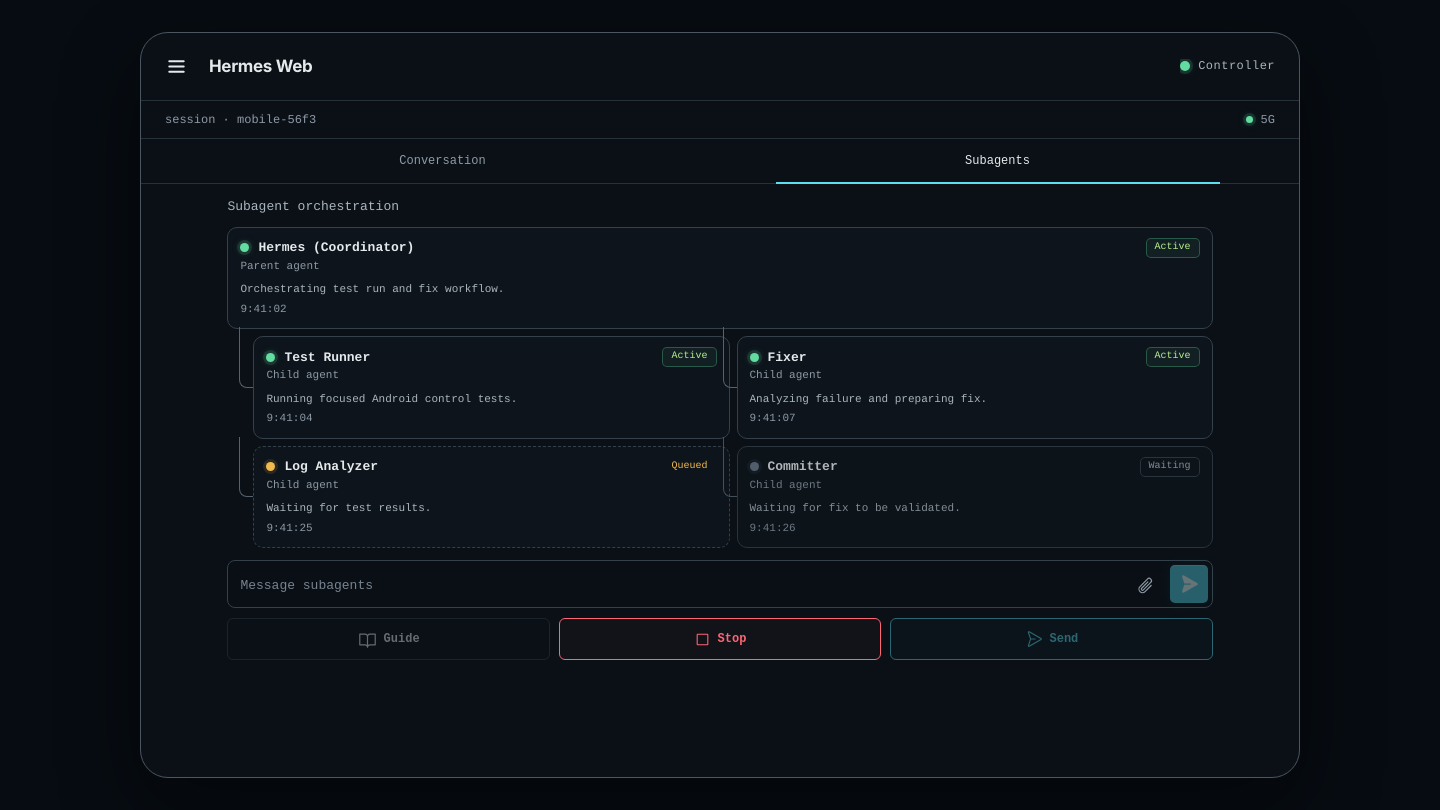
it: Hermes Web mobile-parity slice › keeps Subagents Send single-flight and disabled while pending
Type "Run once" into the field labelled "Message subagents" at (676, 584), box x1=228 y1=561 x2=1124 y2=607
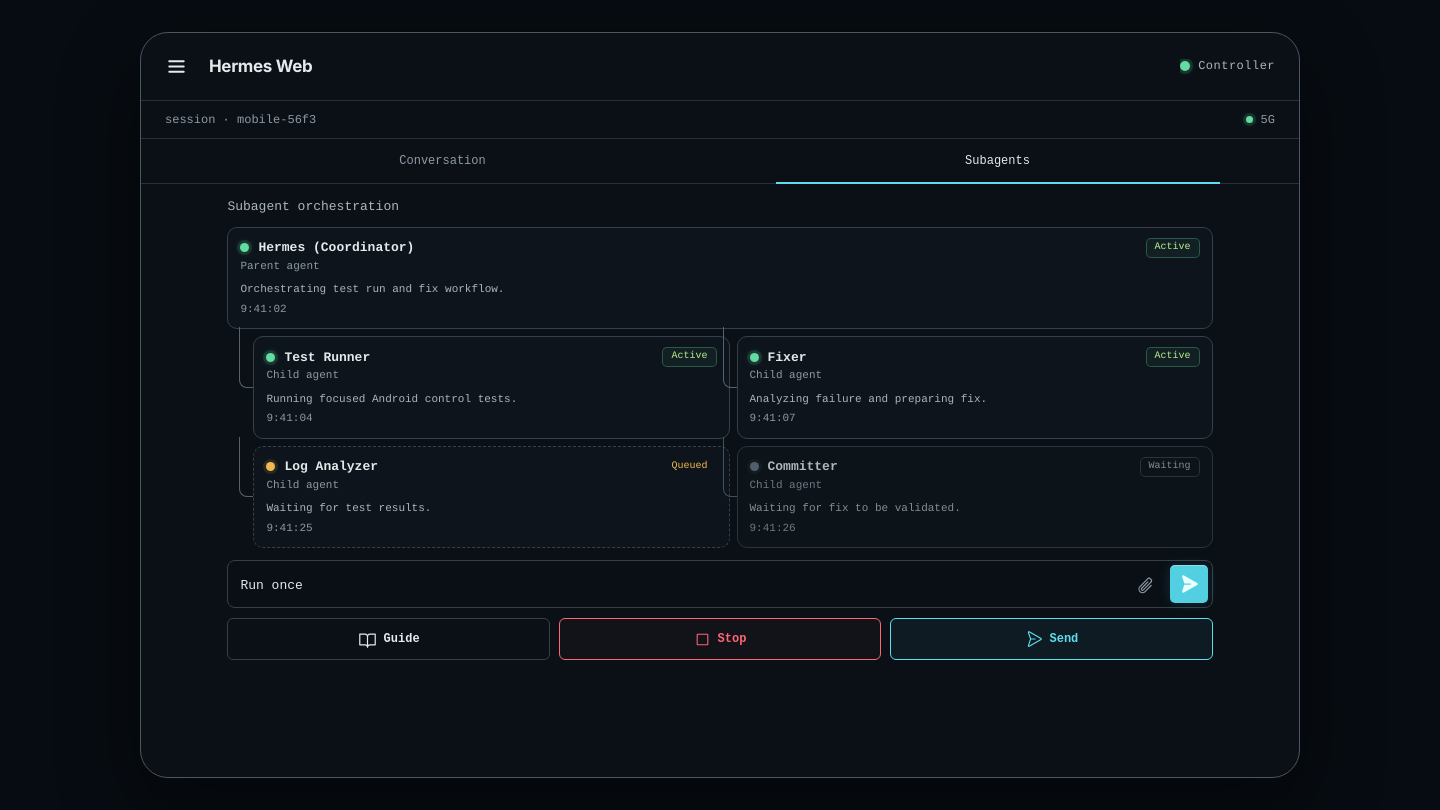
Double-click the button "Send" at (1051, 639), box x1=890 y1=618 x2=1213 y2=660
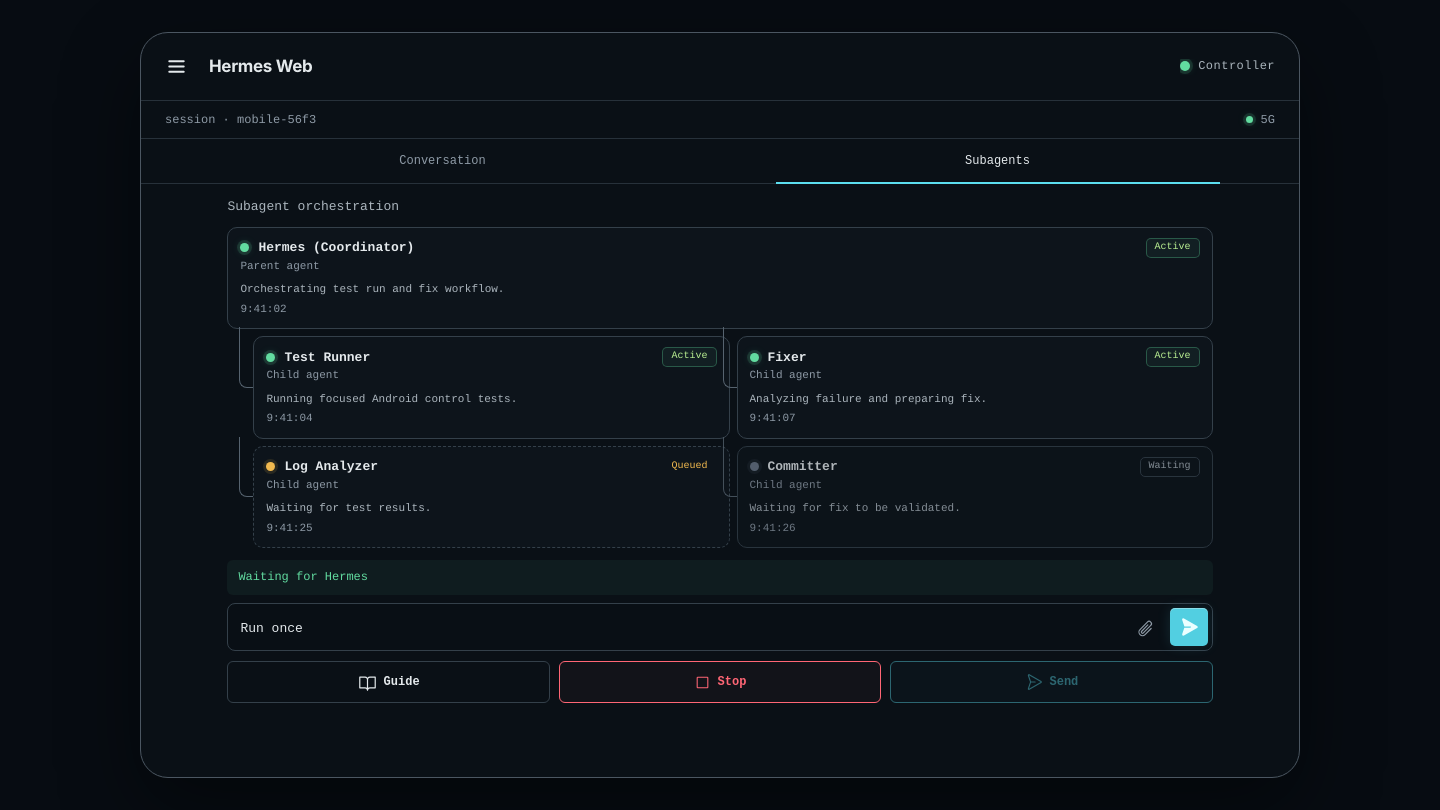
expect the button "Send" is disabled: met, box x1=890 y1=661 x2=1213 y2=703
